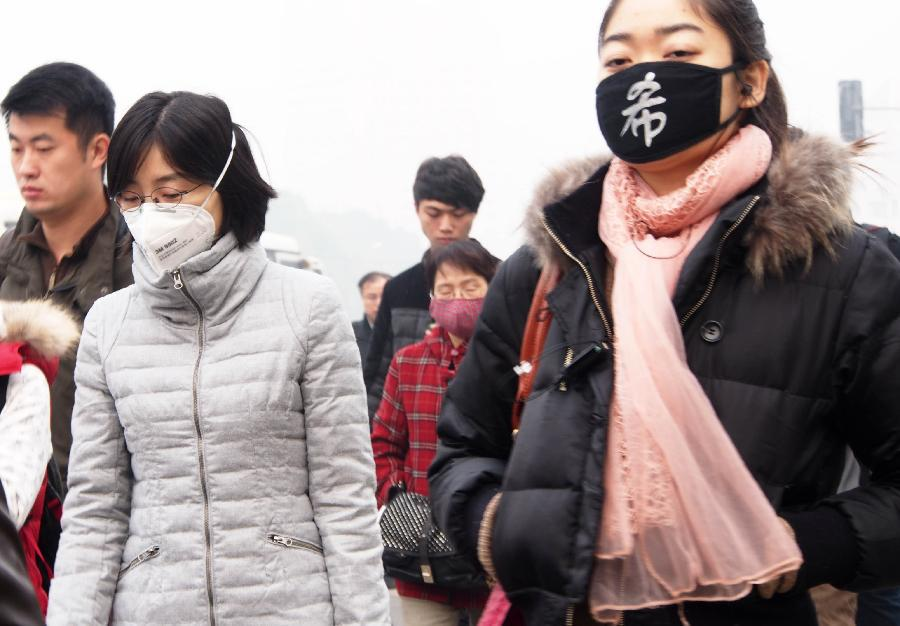NONE: (11, 130, 86, 218), (422, 195, 470, 248)
OK: (602, 15, 742, 155), (115, 171, 205, 261), (426, 275, 486, 335)
